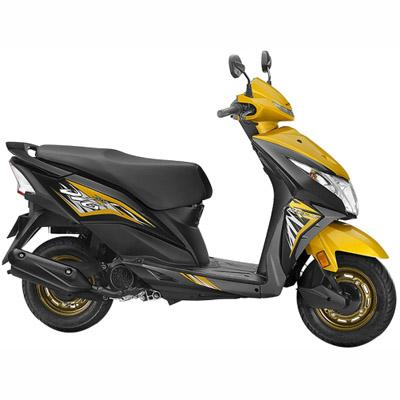motorbike: (1, 50, 397, 347)
